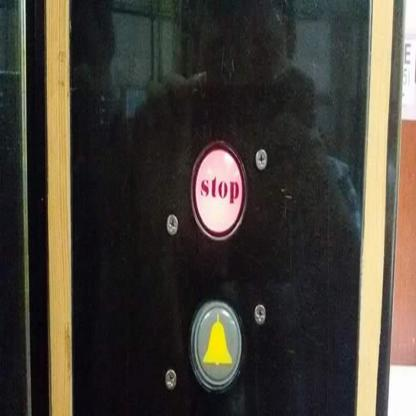alarm: (185, 293, 248, 393)
stop: (187, 131, 250, 240)
